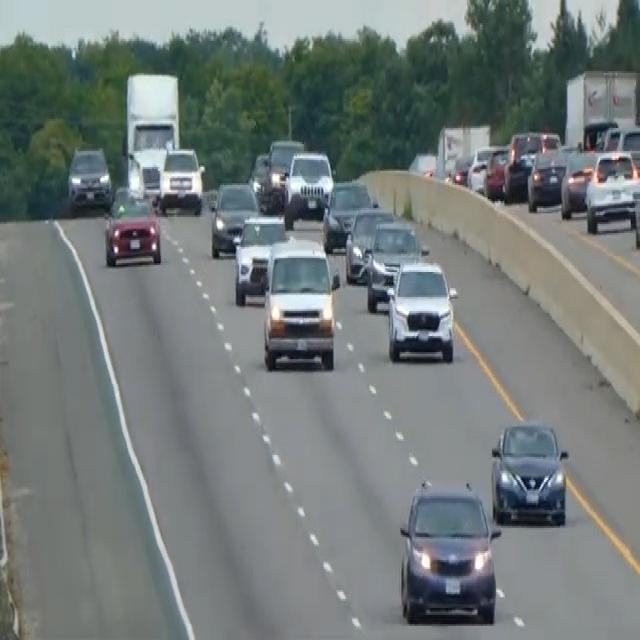car: (397, 476, 500, 624), (489, 416, 569, 526), (385, 256, 458, 363), (365, 219, 428, 313), (232, 212, 288, 304), (103, 181, 161, 267), (584, 147, 639, 233), (503, 128, 560, 201), (282, 147, 334, 225), (321, 176, 374, 252), (210, 178, 259, 258), (344, 205, 394, 282), (526, 140, 579, 212), (158, 144, 205, 213), (66, 144, 112, 210), (559, 146, 600, 218), (267, 137, 304, 201), (248, 151, 283, 213), (602, 121, 639, 174), (467, 144, 496, 194), (483, 144, 509, 199), (632, 172, 639, 249)
lorry: (121, 68, 181, 196)
minivan: (260, 236, 340, 372)
